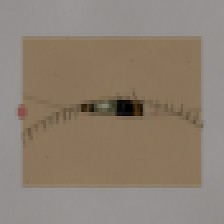corneal_ulcer: (81, 85, 130, 124)
